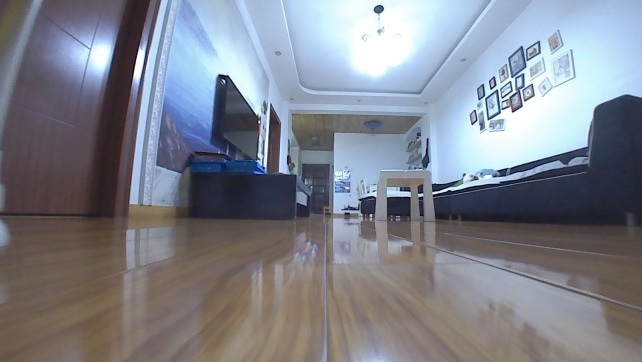TV_stand: (185, 170, 313, 220)
door_anno: (0, 0, 161, 231)
sofa: (356, 93, 641, 227)
